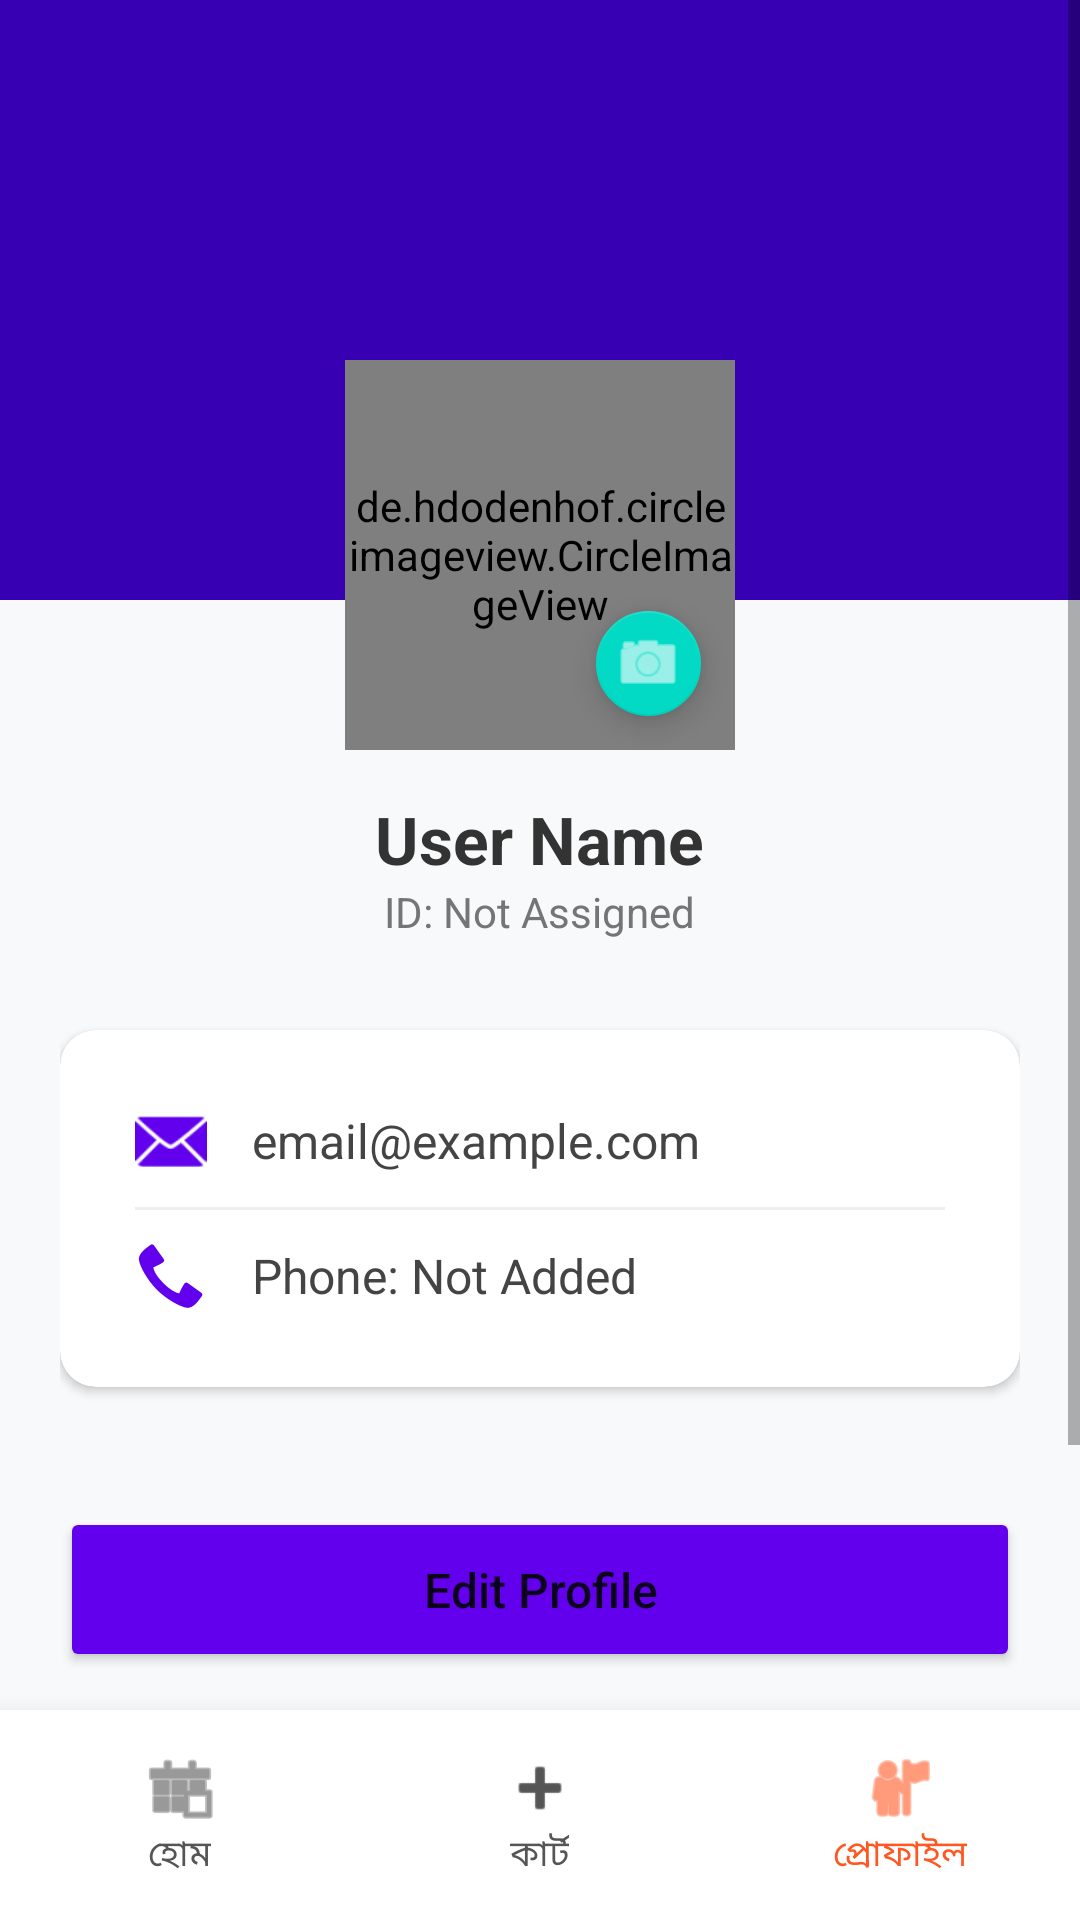

Named icons in this screenshot (1080*1920) and their centers, point (x, y):
add: point (540, 1788)
camera: point (639, 656)
phone call: point (171, 1276)
today: point (181, 1789)
